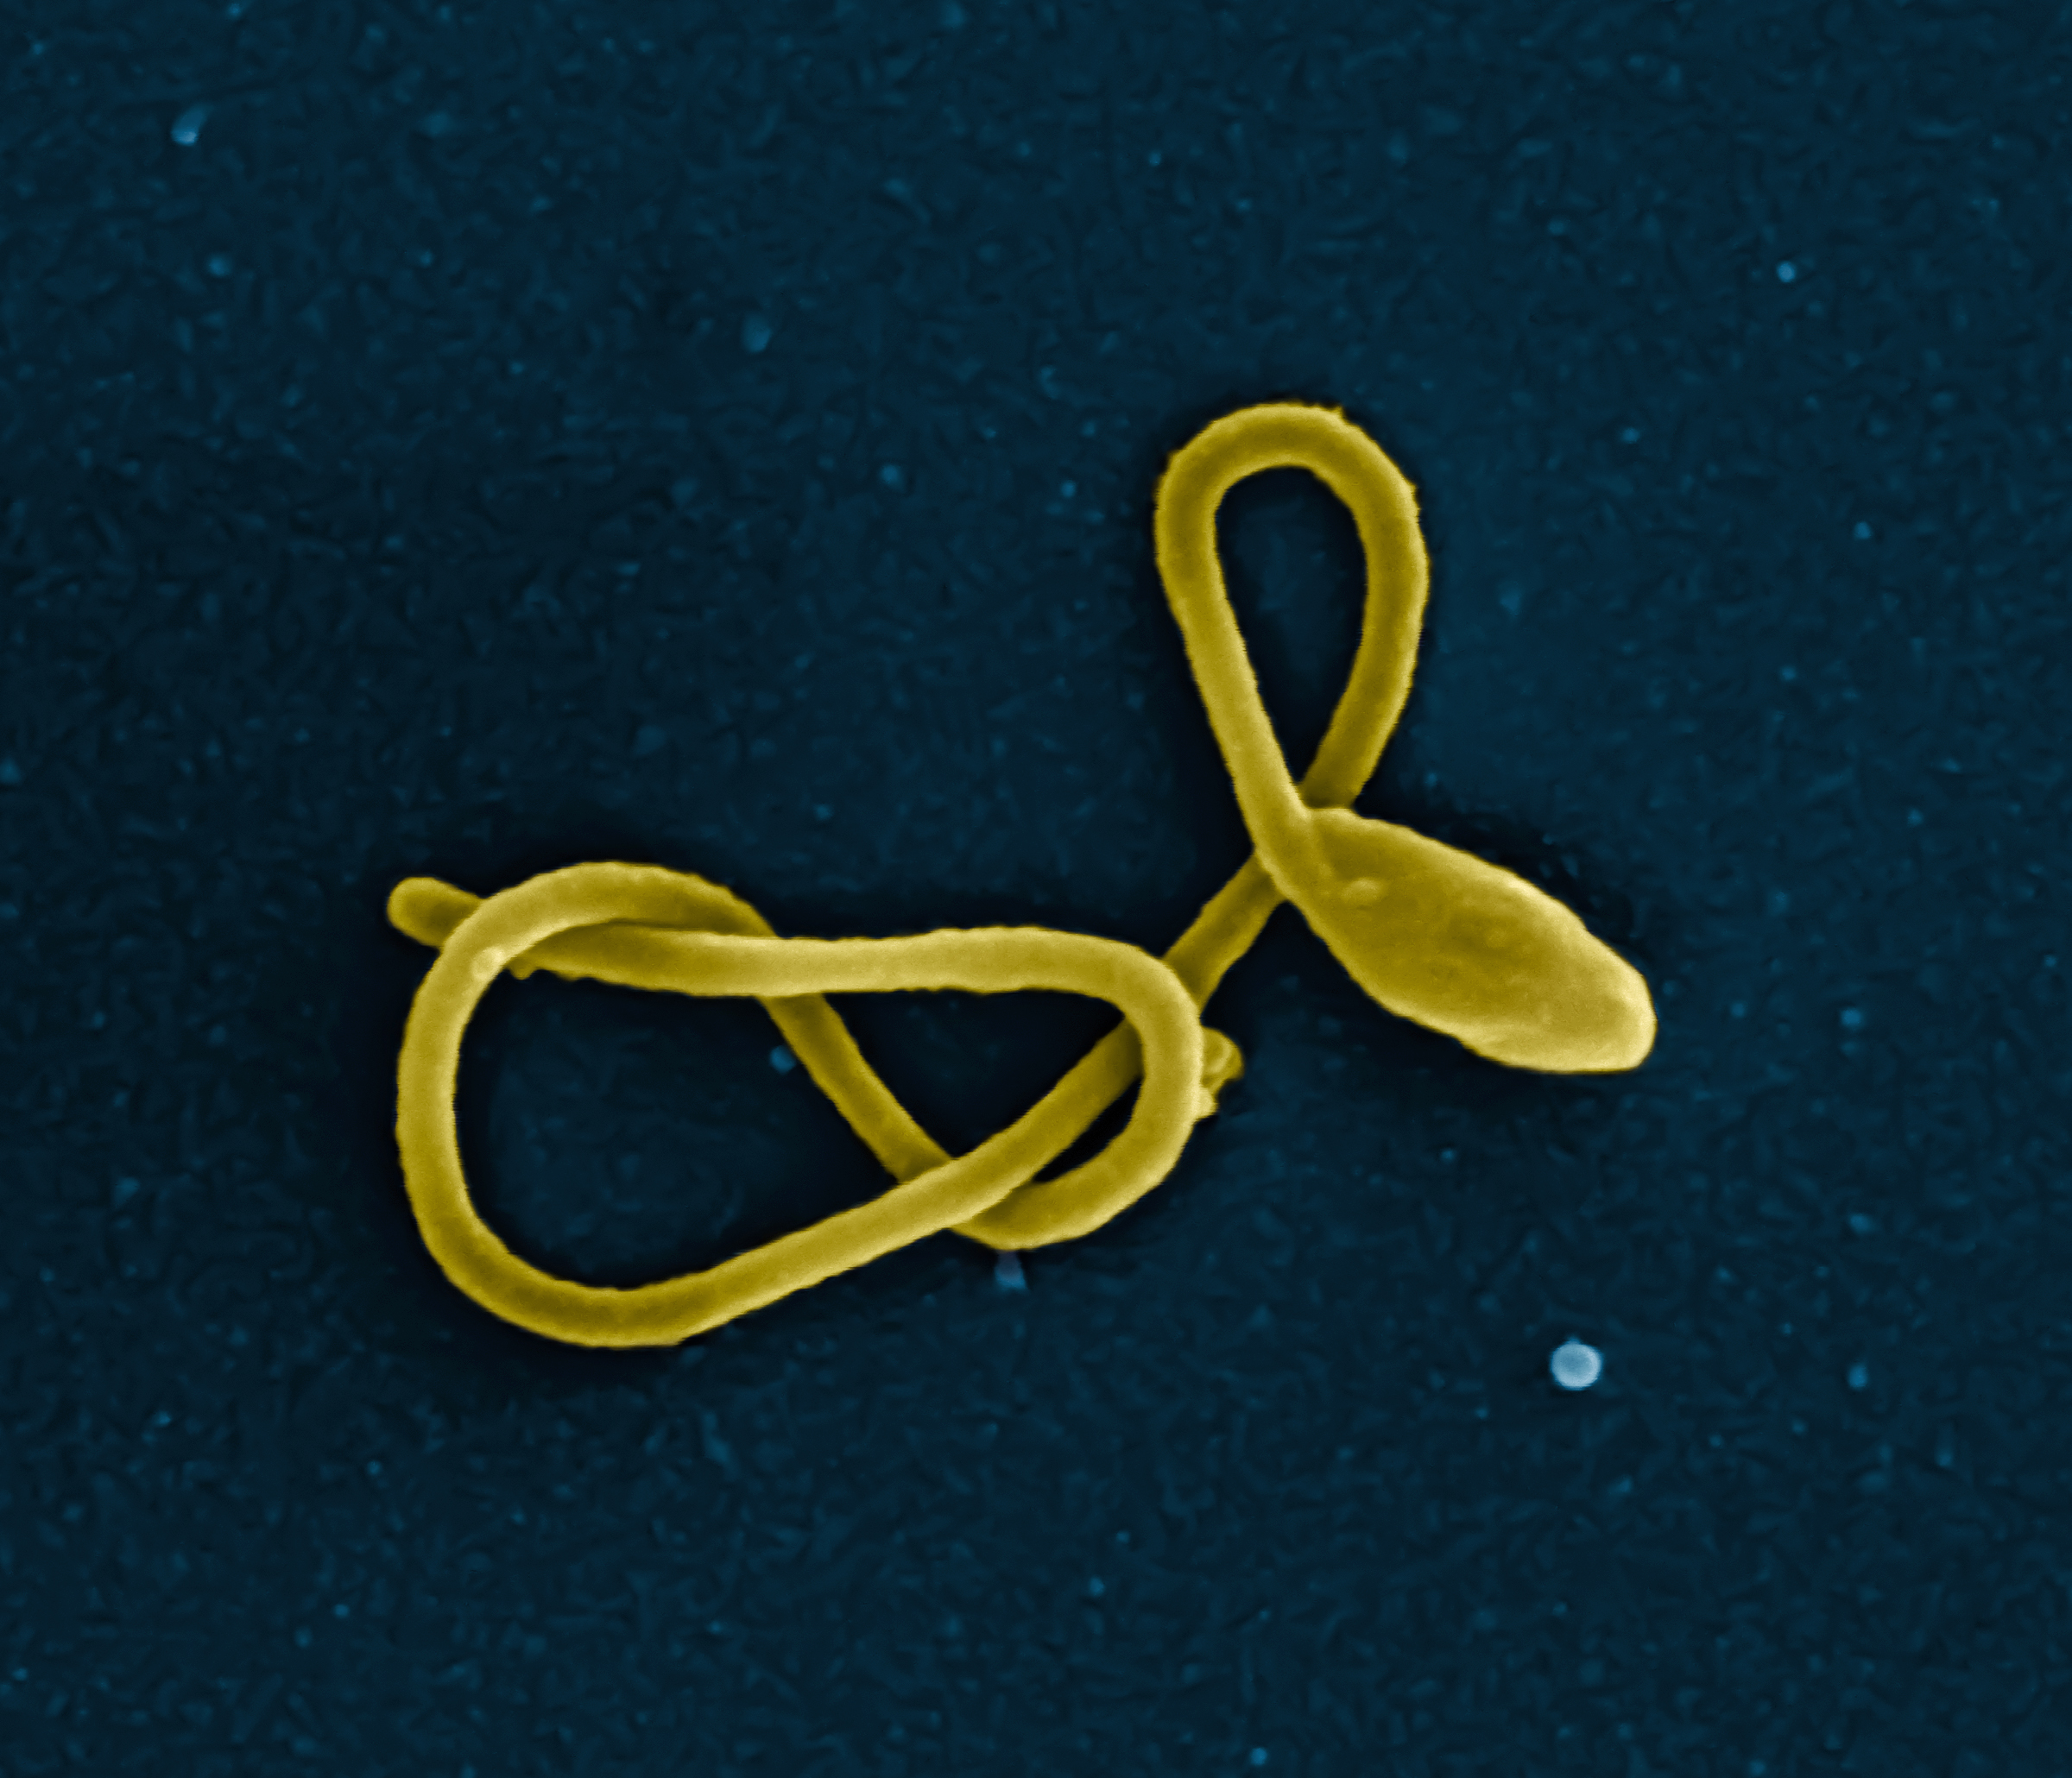EBOLA: (347, 381, 1744, 1454)
